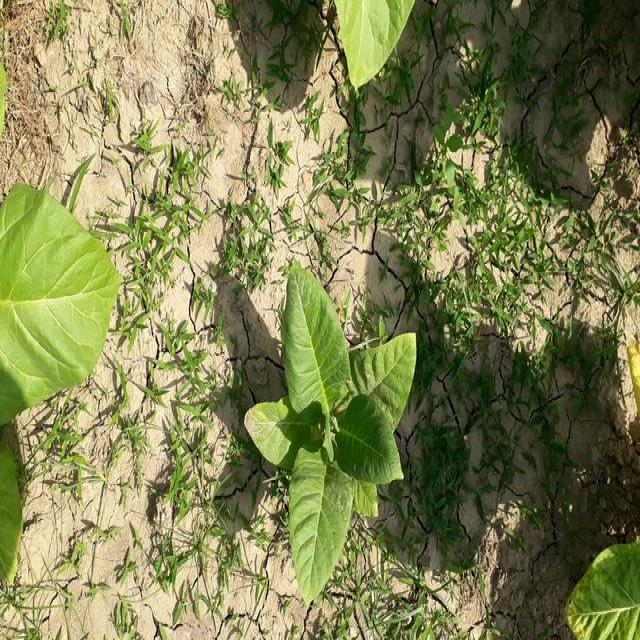crop: (250, 260, 414, 599), (0, 186, 115, 586), (334, 3, 418, 90), (568, 537, 638, 640)
